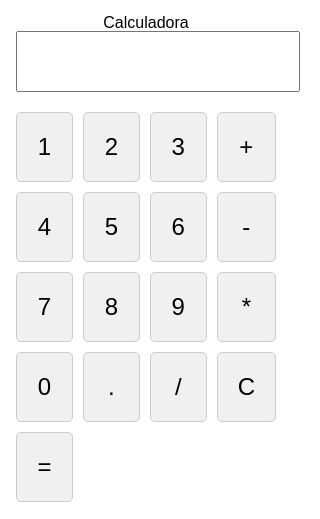
Calculator Component › handles operator button clicks
Click the button "1".
click(44, 147)  # box [16, 112, 73, 182]
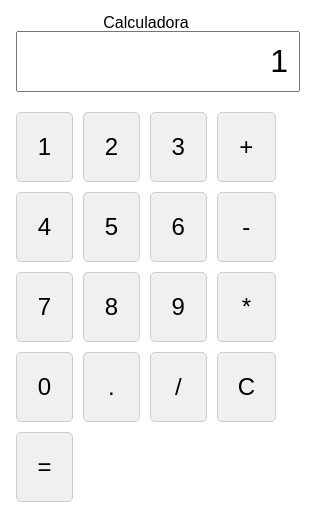
Click the button "+".
click(246, 147)  # box [217, 112, 276, 182]
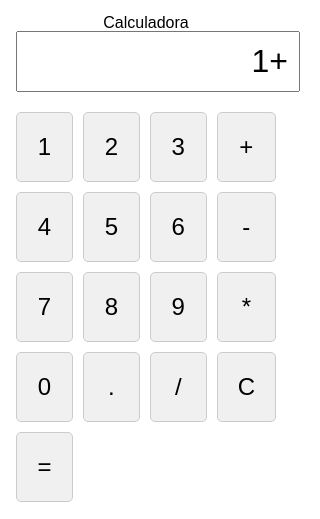
Click the button "1".
click(44, 147)  # box [16, 112, 73, 182]
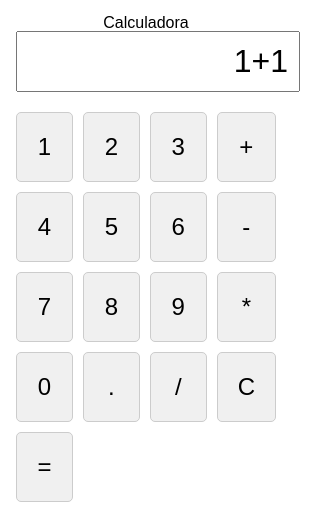
Result: the field holds "1+1" at [16, 31, 300, 92]
